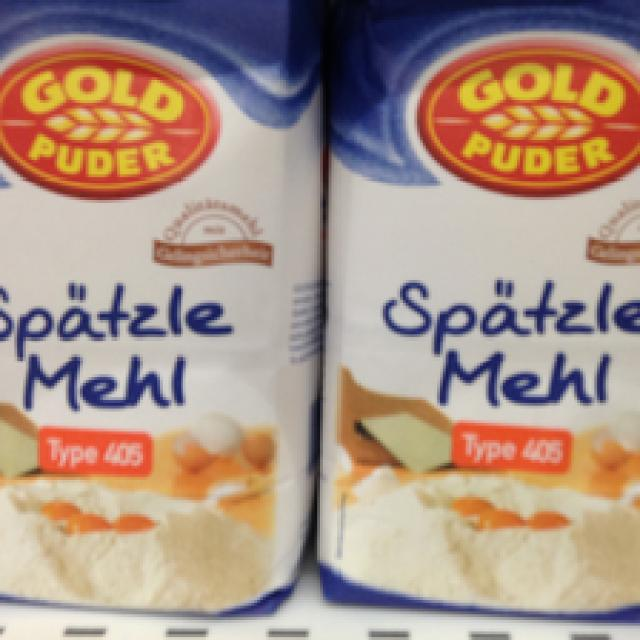groceries: (314, 0, 637, 623), (0, 0, 320, 620)
